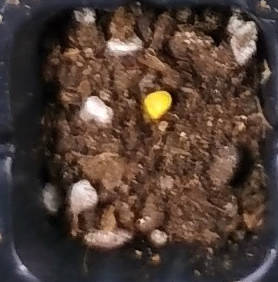chilli seed: (144, 90, 172, 119)
